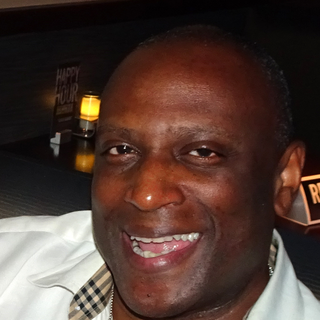eye: (178, 141, 227, 165), (102, 139, 144, 163)
